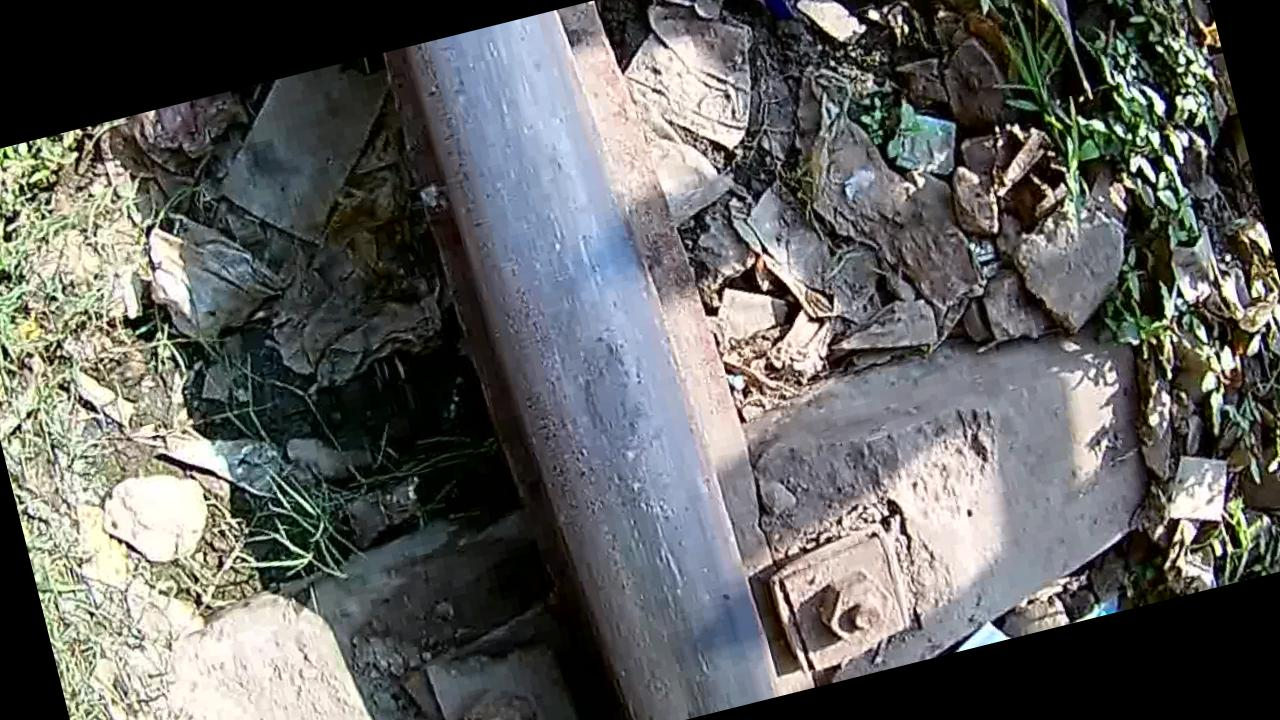bolt_missing: (483, 221, 724, 563)
